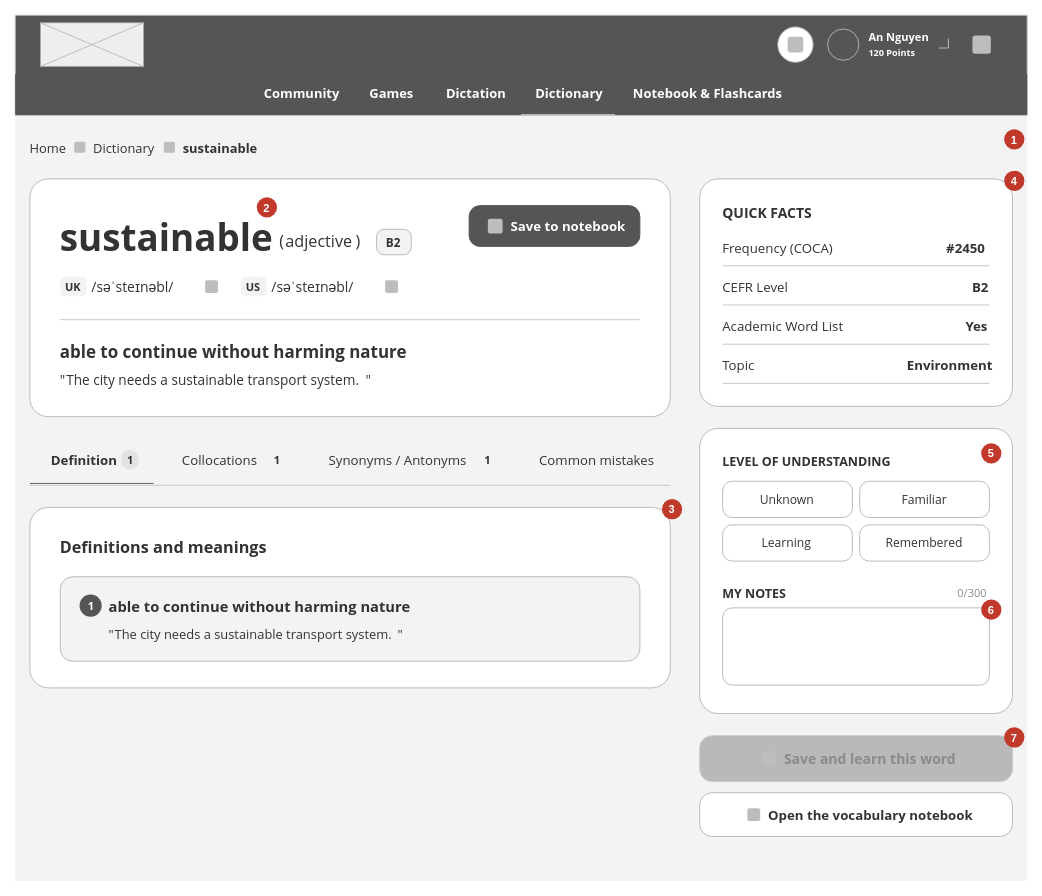
Some shapes in this 1042 by 896 pixel diagram are drawn without their labels. Here are the shapes that lost their labels. From the top down, the box of each, then its label:
(827, 28, 859, 60): AN
(722, 607, 989, 685): Add a memory tip or personal example...
